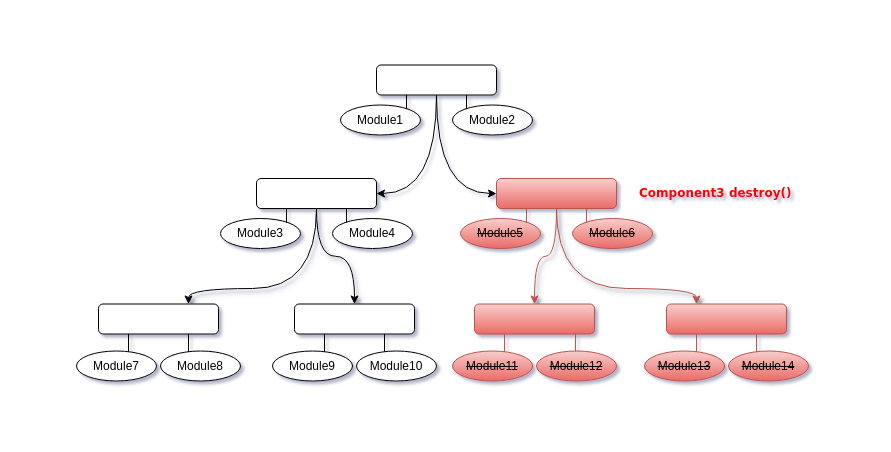
This 891x452 diagram has some shape labels left out. Each missing label, with the centre of its shape:
Component1: the point at 436,79
Component2: the point at 316,193
Component3: the point at 556,193
Component4: the point at 158,318
Component5: the point at 354,318
Component6: the point at 534,318
Component7: the point at 726,318
